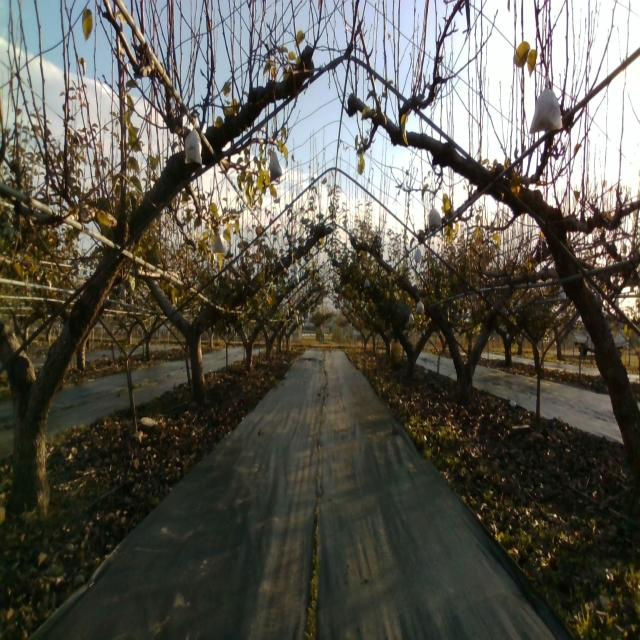pearbags: (527, 75, 563, 135), (183, 117, 203, 167), (268, 147, 282, 183), (210, 230, 230, 254), (427, 202, 442, 230)
